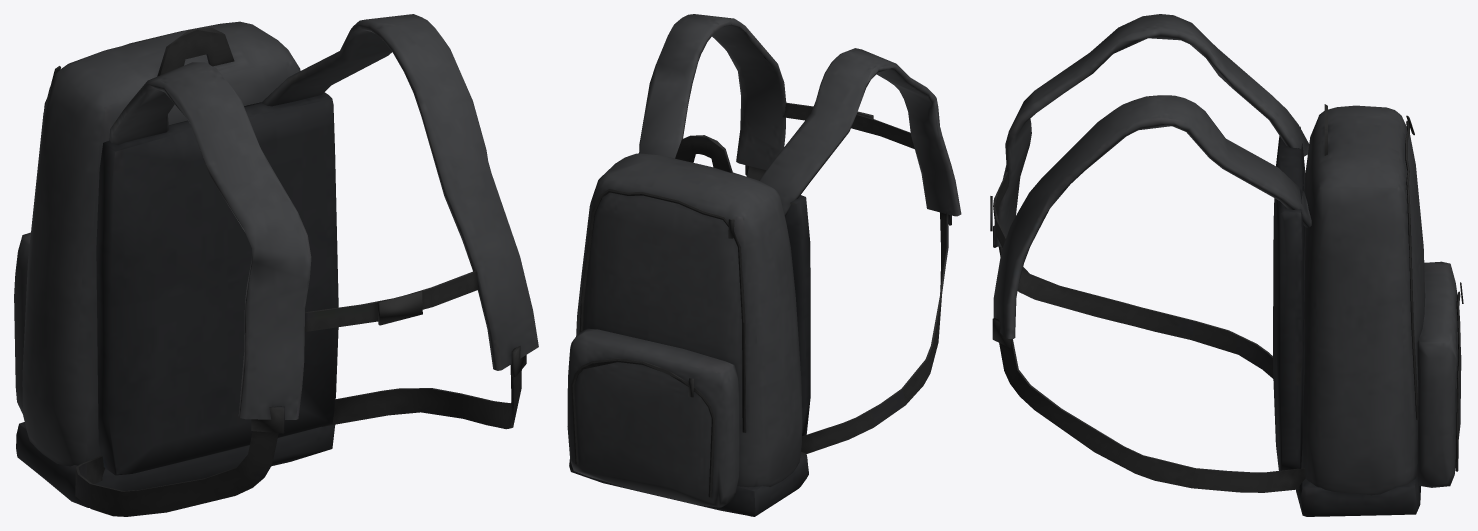
Rendered from backpack_1_lod1.glb.
3 renders of one model, left to right at view 1: azimuth 30°, elevation 25°; view 2: azimuth 150°, elevation 25°; view 3: azimuth 270°, elevation 25°, orthographic. The views are drawn at different scales.
Visible parts, largest first — view 1: body; view 2: body; view 3: body.
Boxes of the visible parts, bbox=[...] form: body: bbox=[14, 14, 538, 516]; body: bbox=[567, 14, 961, 516]; body: bbox=[990, 14, 1463, 516].
Bounding box in the file's own units: 0.4174 × 0.5329 × 0.5568.
Materials: 1 (1 with a texture image).
